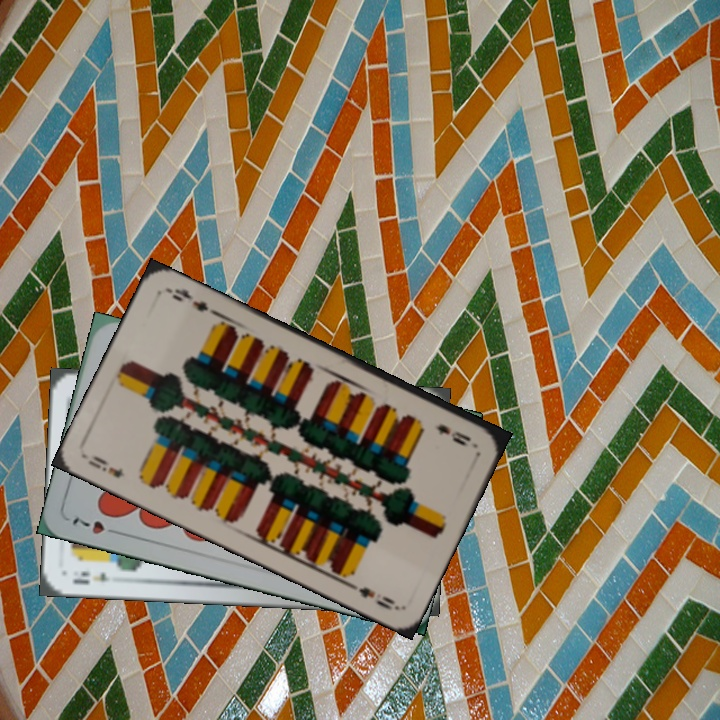E9: (84, 451, 128, 481), (432, 420, 474, 450)
EK: (70, 566, 124, 588)
H7: (68, 511, 124, 538)
